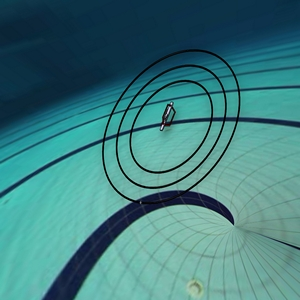circle: (91, 35, 259, 227)
submarine: (153, 97, 186, 139)
